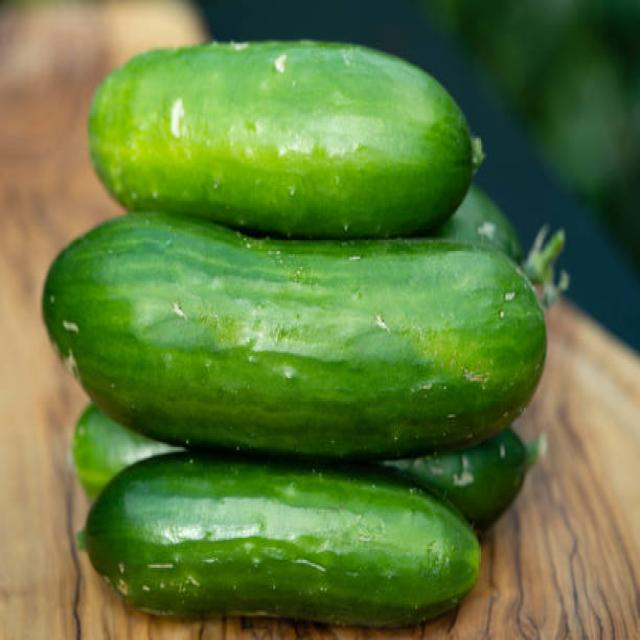cucumber: (42, 211, 549, 453), (88, 42, 476, 243), (86, 450, 483, 628)
